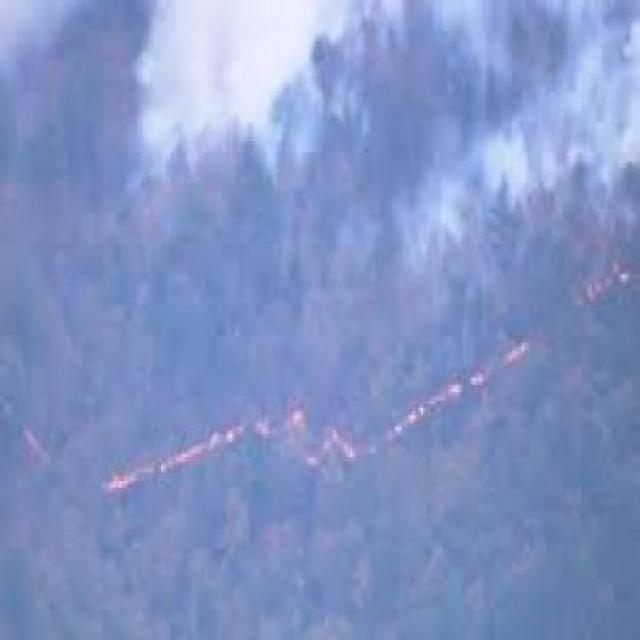Fire: (97, 391, 376, 532), (380, 331, 496, 452)
Smoke: (29, 1, 636, 357)
